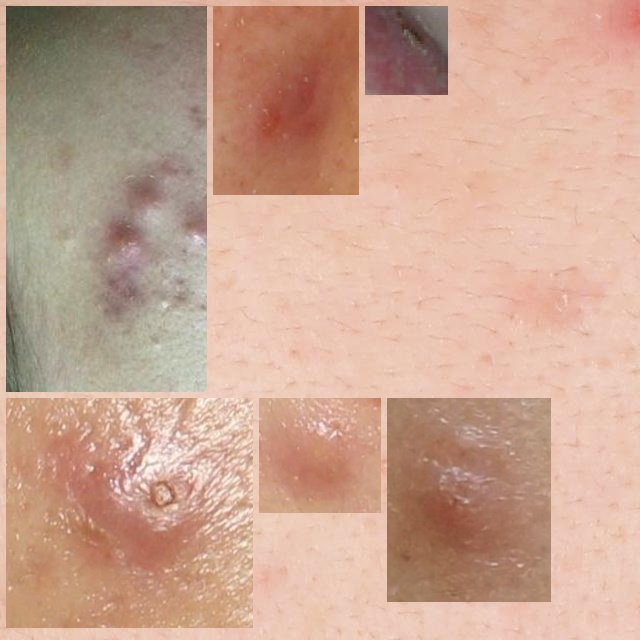nodule: (14, 14, 199, 529), (14, 406, 245, 620), (395, 406, 543, 594), (221, 14, 351, 187), (267, 406, 373, 505), (373, 14, 440, 87)
